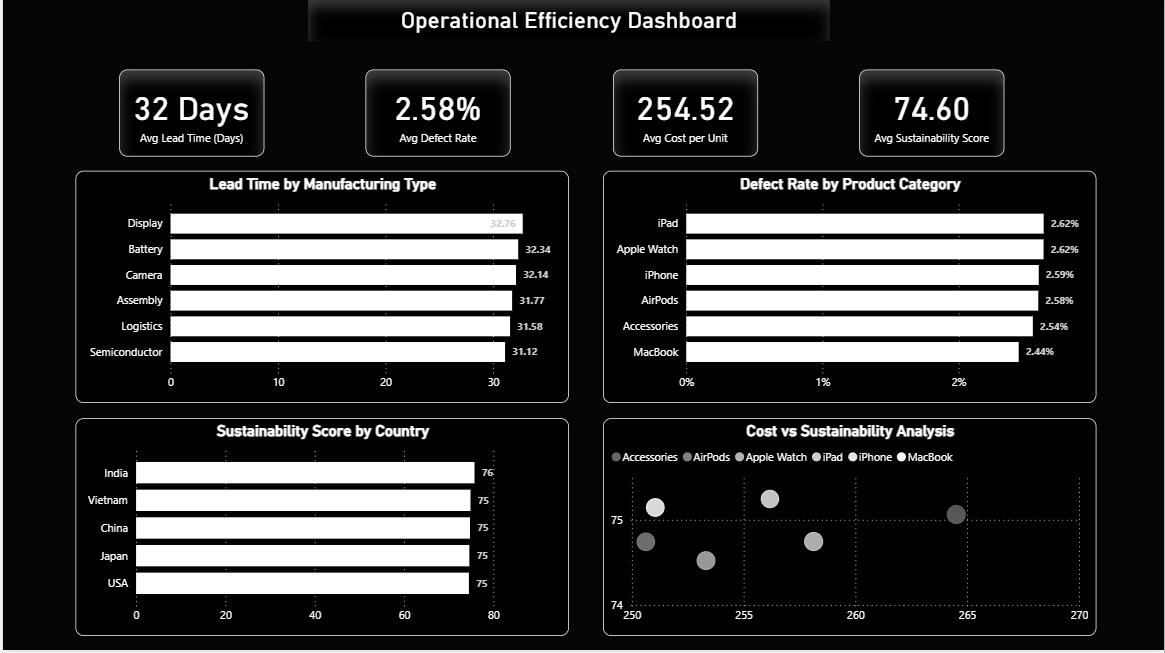

The dashboard page shown, as its layout file describes it:
{"tool":"powerbi","page":{"name":"Operational Efficiency Dashboard","canvas":[1280,720],"ordinal":2},"visuals":[{"type":"card","fields":{"Values":["apple_supplier_dataset_10000.Avg Lead Time (Days)"]},"box":[128,80,160,96],"z":0},{"type":"card","fields":{"Values":["apple_supplier_dataset_10000.Avg Defect Rate"]},"box":[400,80,160,96],"z":1000},{"type":"card","fields":{"Values":["apple_supplier_dataset_10000.Avg Cost per Unit"]},"box":[672,80,160,96],"z":2000},{"type":"card","fields":{"Values":["apple_supplier_dataset_10000.Avg Sustainability Score"]},"box":[944,80,160,96],"z":3000},{"type":"clusteredBarChart","title":"Lead Time by Manufacturing Type","fields":{"Category":["apple_supplier_dataset_10000.Manufacturing_Type"],"Y":["Avg(apple_supplier_dataset_10000.Lead_Time_Days)"]},"box":[80,192,544,256],"z":4000},{"type":"clusteredBarChart","title":"Defect Rate by Product Category","fields":{"Category":["apple_supplier_dataset_10000.Product_Category"],"Y":["apple_supplier_dataset_10000.Avg Defect Rate"]},"box":[662.1,192,544,256],"z":4001},{"type":"clusteredBarChart","title":"Sustainability Score by Country","fields":{"Category":["apple_supplier_dataset_10000.Country"],"Y":["apple_supplier_dataset_10000.Avg Sustainability Score"]},"box":[80,464,544,240],"z":4002},{"type":"scatterChart","title":"Cost vs Sustainability Analysis","fields":{"X":["Avg(apple_supplier_dataset_10000.Cost_per_Unit)"],"Y":["Avg(apple_supplier_dataset_10000.Sustainability_Score)"],"Series":["apple_supplier_dataset_10000.Product_Category"],"Size":["Sum(apple_supplier_dataset_10000.Supply_Volume)"]},"box":[662.1,464,544,240],"z":4003},{"type":"card","fields":{"Values":["apple_supplier_dataset_10000.III"]},"box":[336,0,576,48],"z":4004}]}

Visuals, with their boxes in screenshot pixels (x1, y1, x2, y2), scaled from the page's 1280x720 canvas onto the 1165x653 screenshot:
card - apple_supplier_dataset_10000.Avg Lead Time (Days): detection(116, 73, 262, 160)
card - apple_supplier_dataset_10000.Avg Defect Rate: detection(364, 73, 510, 160)
card - apple_supplier_dataset_10000.Avg Cost per Unit: detection(612, 73, 757, 160)
card - apple_supplier_dataset_10000.Avg Sustainability Score: detection(859, 73, 1005, 160)
"Lead Time by Manufacturing Type" clusteredBarChart: detection(73, 174, 568, 406)
"Defect Rate by Product Category" clusteredBarChart: detection(603, 174, 1098, 406)
"Sustainability Score by Country" clusteredBarChart: detection(73, 421, 568, 638)
"Cost vs Sustainability Analysis" scatterChart: detection(603, 421, 1098, 638)
card - apple_supplier_dataset_10000.III: detection(306, 0, 830, 44)
